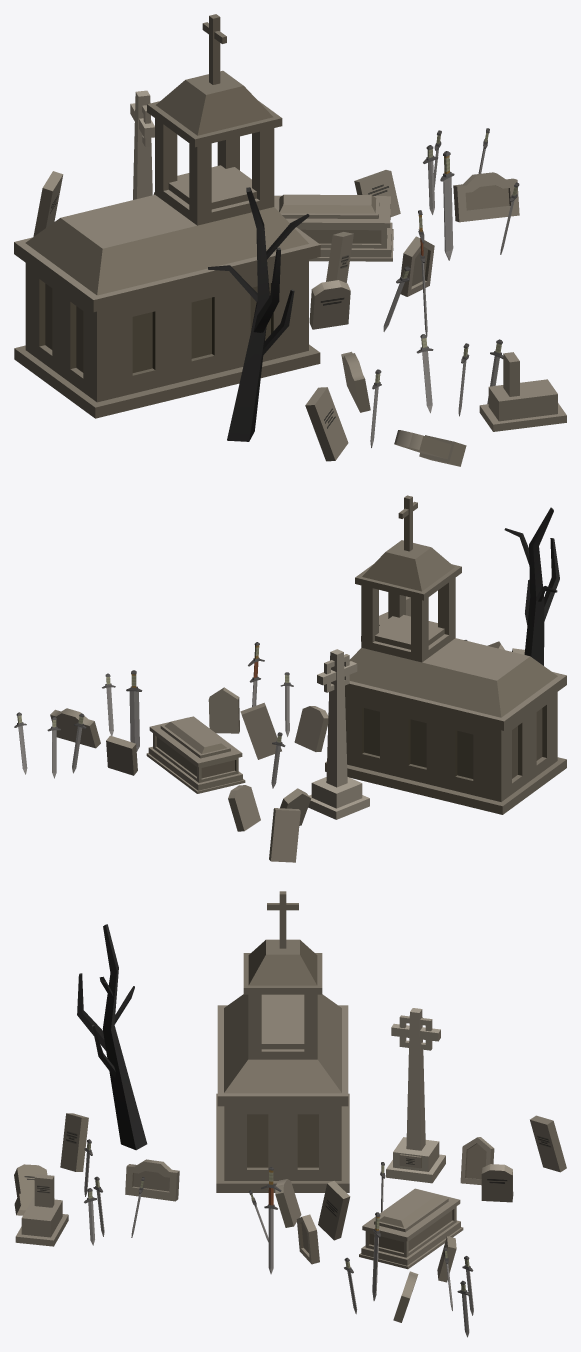
Rendered from SF_Env_Undead_Preset_04.fbx.
3 renders of one model, top to bottom at view 1: azimuth 30°, elevation 25°; view 2: azimuth 150°, elevation 25°; view 3: azimuth 270°, elevation 25°, orthographic. The views are drawn at different scales.
Visible parts, largest first — view 1: SF_Env_Undead_Preset_04; view 2: SF_Env_Undead_Preset_04; view 3: SF_Env_Undead_Preset_04.
Part boxes in pixels (box(x1,y1,x2,y2)): SF_Env_Undead_Preset_04: box(14, 14, 566, 466); SF_Env_Undead_Preset_04: box(14, 495, 566, 862); SF_Env_Undead_Preset_04: box(14, 891, 566, 1337).
Size of the model in its own units: 16.85 by 10.75 by 17.97.
